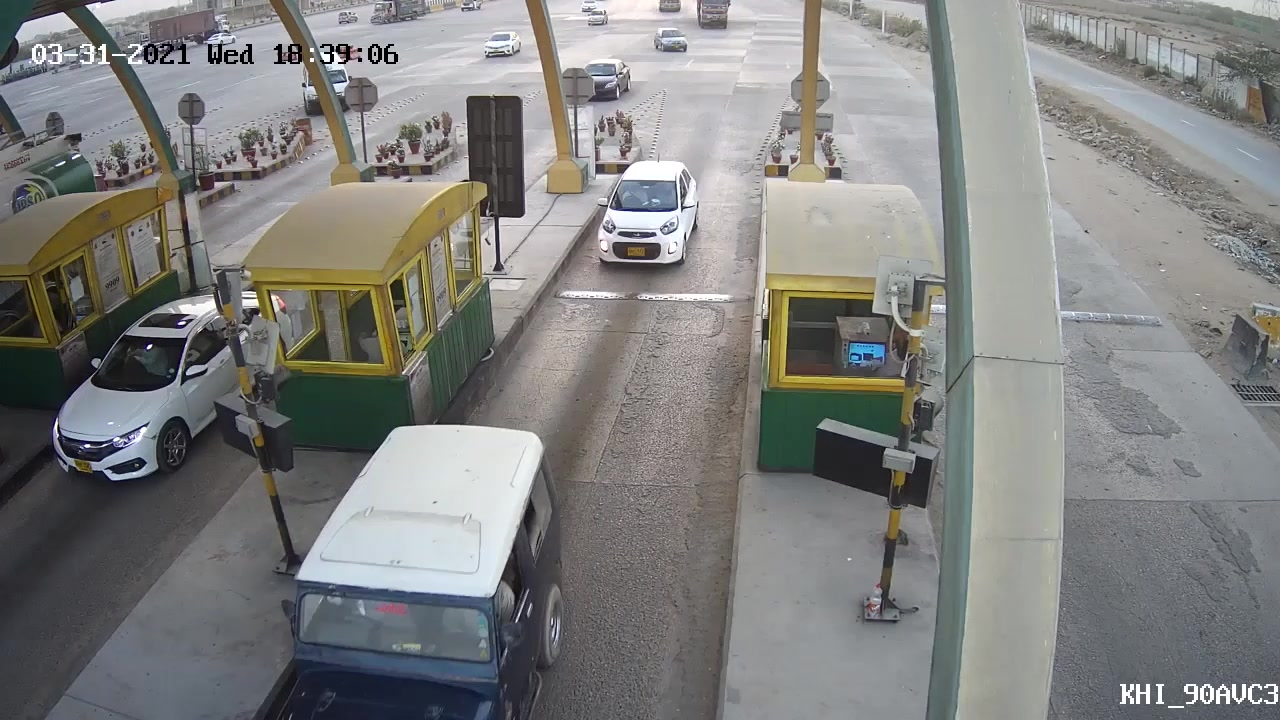F1: (584, 151, 709, 278)
